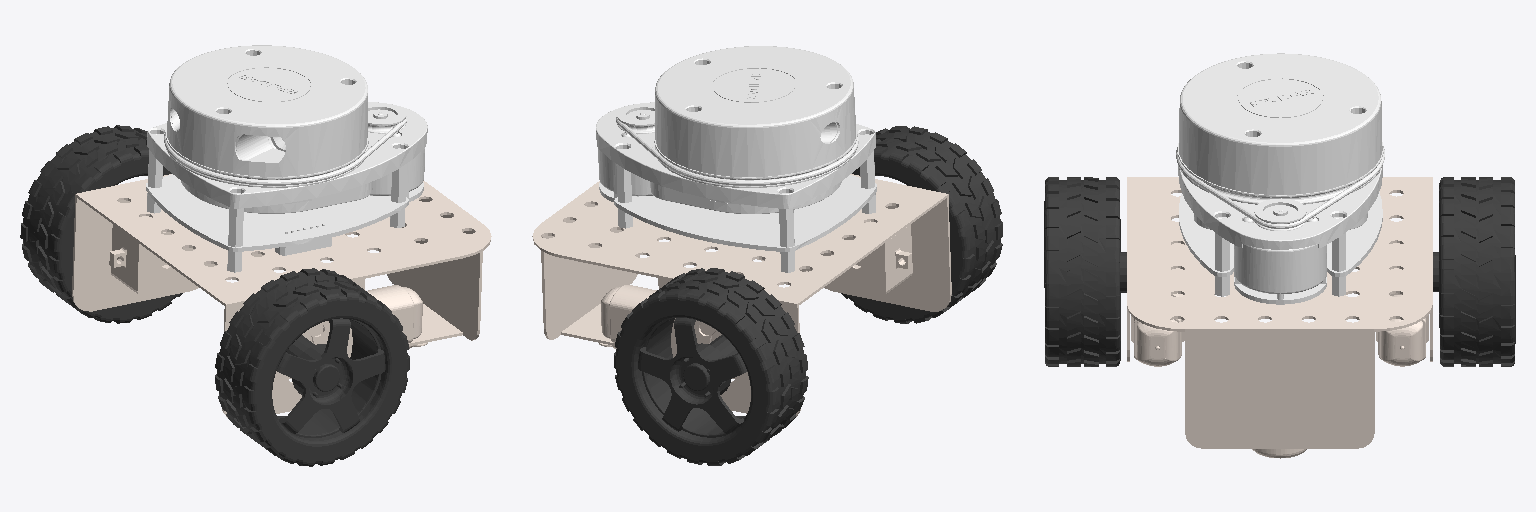
robot.urdf — rover_assembly_description:

<!-- This URDF was automatically created by SolidWorks to URDF Exporter! Originally created by Stephen Brawner (brawner@gmail.com) 
     Commit Version: 1.6.0-4-g7f85cfe  Build Version: 1.6.7995.38578
     For more information, please see http://wiki.ros.org/sw_urdf_exporter -->
<robot
  name="rover_assembly_description">

  <link name="dummy_link" />
  <joint name="dummy_joint" type="fixed">
    <parent link="dummy_link"/>
    <child link="base_link"/>
  </joint>

  <link
    name="base_link">
    <inertial>
      <origin
        xyz="0.0065233 -6.9841E-05 0.0049949"
        rpy="0 0 0" />
      <mass
        value="0.20594" />
      <inertia
        ixx="0.00023282"
        ixy="9.7737E-09"
        ixz="2.4315E-05"
        iyy="0.00027419"
        iyz="-7.3118E-09"
        izz="0.00041916" />
    </inertial>
    <visual>
      <origin
        xyz="0 0 0"
        rpy="0 0 0" />
      <geometry>
        <mesh
          filename="package://rover_assembly_description/meshes/base_link.STL" />
      </geometry>
      <material
        name="">
        <color
          rgba="1 0.94902 0.9098 1" />
      </material>
    </visual>
    <collision>
      <origin
        xyz="0 0 0"
        rpy="0 0 0" />
      <geometry>
        <mesh
          filename="package://rover_assembly_description/meshes/base_link.STL" />
      </geometry>
    </collision>
  </link>
  <link
    name="left_wheel_link">
    <inertial>
      <origin
        xyz="2.7908E-07 -3.2347E-08 -0.12902"
        rpy="0 0 0" />
      <mass
        value="0.029734" />
      <inertia
        ixx="1.2291E-05"
        ixy="6.5019E-11"
        ixz="9.0896E-11"
        iyy="1.2291E-05"
        iyz="-7.735E-12"
        izz="2.0379E-05" />
    </inertial>
    <visual>
      <origin
        xyz="0 0 0"
        rpy="0 0 0" />
      <geometry>
        <mesh
          filename="package://rover_assembly_description/meshes/left_wheel_link.STL" />
      </geometry>
      <material
        name="">
        <color
          rgba="0.29804 0.29804 0.29804 1" />
      </material>
    </visual>
    <collision>
      <origin
        xyz="0 0 0"
        rpy="0 0 0" />
      <geometry>
        <mesh
          filename="package://rover_assembly_description/meshes/left_wheel_link.STL" />
      </geometry>
    </collision>
  </link>
  <joint
    name="left_wheel_joint"
    type="continuous">
    <origin
      xyz="-0.030862 0.060664 0.00024787"
      rpy="1.5698 0 3.1407" />
    <parent
      link="base_link" />
    <child
      link="left_wheel_link" />
    <axis
      xyz="0 0 -1" />
  </joint>
  <link
    name="right_wheel_link">
    <inertial>
      <origin
        xyz="0.00012042 0.000129 -0.12891"
        rpy="0 0 0" />
      <mass
        value="0.029734" />
      <inertia
        ixx="1.2291E-05"
        ixy="-5.2953E-12"
        ixz="-7.6632E-09"
        iyy="1.2291E-05"
        iyz="-8.1079E-09"
        izz="2.0379E-05" />
    </inertial>
    <visual>
      <origin
        xyz="0 0 0"
        rpy="0 0 0" />
      <geometry>
        <mesh
          filename="package://rover_assembly_description/meshes/right_wheel_link.STL" />
      </geometry>
      <material
        name="">
        <color
          rgba="0.29804 0.29804 0.29804 1" />
      </material>
    </visual>
    <collision>
      <origin
        xyz="0 0 0"
        rpy="0 0 0" />
      <geometry>
        <mesh
          filename="package://rover_assembly_description/meshes/right_wheel_link.STL" />
      </geometry>
    </collision>
  </link>
  <joint
    name="right_wheel_joint"
    type="continuous">
    <origin
      xyz="-0.030976 -0.060483 0.00012661"
      rpy="1.5708 0 0" />
    <parent
      link="base_link" />
    <child
      link="right_wheel_link" />
    <axis
      xyz="0.00093633 0.001001 -1" />
  </joint>
  <link
    name="lidar_link">
    <inertial>
      <origin
        xyz="-3.4037E-05 0.011952 0.016735"
        rpy="0 0 0" />
      <mass
        value="0.0782" />
      <inertia
        ixx="2.5804E-05"
        ixy="2.47E-07"
        ixz="2.7479E-09"
        iyy="2.0961E-05"
        iyz="-4.5845E-07"
        izz="4.4317E-05" />
    </inertial>
    <visual>
      <origin
        xyz="0 0 0"
        rpy="0 0 0" />
      <geometry>
        <mesh
          filename="package://rover_assembly_description/meshes/lidar_link.STL" />
      </geometry>
      <material
        name="">
        <color
          rgba="1 1 1 0.35" />
      </material>
    </visual>
    <collision>
      <origin
        xyz="0 0 0"
        rpy="0 0 0" />
      <geometry>
        <mesh
          filename="package://rover_assembly_description/meshes/lidar_link.STL" />
      </geometry>
    </collision>
  </link>
  <joint
    name="lidar_joint"
    type="fixed">
    <origin
      xyz="-0.010767 4.1541E-05 0.03054"
      rpy="-0.035801 0 -1.5997" />
    <parent
      link="base_link" />
    <child
      link="lidar_link" />
    <axis
      xyz="0 0 0" />
  </joint>
  <link
    name="castor_link">
    <inertial>
      <origin
        xyz="0 0 0"
        rpy="0 0 0" />
      <mass
        value="0.2" />
      <inertia
        ixx="1e-5"
        ixy="1e-5"
        ixz="1e-5"
        iyy="0"
        iyz="0"
        izz="0" />
    </inertial>
    <visual>
      <origin
        xyz="0 0 0"
        rpy="0 0 0" />
      <geometry>
        <mesh
          filename="package://rover_assembly_description/meshes/castor_link.STL" />
      </geometry>
      <material
        name="">
        <color
          rgba="1 1 1 1" />
      </material>
    </visual>
    <collision>
      <origin
        xyz="0 0 0"
        rpy="0 0 0" />
      <geometry>
        <mesh
          filename="package://rover_assembly_description/meshes/castor_link.STL" />
      </geometry>
    </collision>
  </link>
  <joint
    name="castor_joint"
    type="fixed">
    <origin
      xyz="0.038053 -0.0069786 -0.028058"
      rpy="-0.0010351 -0.035786 -3.1416" />
    <parent
      link="base_link" />
    <child
      link="castor_link" />
    <axis
      xyz="0.99975 0.02249 0" />
  </joint>
  <gazebo reference="castor_link">
    <mu1>0.0</mu1>
    <mu2>0.0</mu2>
    <kp>1000000.0</kp>
    <kd>100.0</kd>
    <material>Gazebo/Grey</material>
  </gazebo>

  <!-- Paint the Chassis Red -->
  <gazebo reference="base_link">
    <material>Gazebo/Red</material>
  </gazebo>

  <!-- Friction for Left Wheel -->
  <gazebo reference="left_wheel_link">
    <mu1>200.0</mu1>
    <mu2>200.0</mu2>
    <kp>1000000.0</kp>
    <kd>100.0</kd>
    <material>Gazebo/Black</material>
  </gazebo>

  <!-- Friction for Right Wheel -->
  <gazebo reference="right_wheel_link">
    <mu1>200.0</mu1>
    <mu2>200.0</mu2>
    <kp>1000000.0</kp>
    <kd>100.0</kd>
    <material>Gazebo/Black</material>
  </gazebo>

  <!-- Paint the LiDAR Dark Grey -->
  <gazebo reference="lidar_link">
    <material>Gazebo/DarkGrey</material>
  </gazebo>

  <!-- Gazebo Differential Drive Plugin -->
  <gazebo>
    <plugin name="diff_drive" filename="libgazebo_ros_diff_drive.so">
      
      <!-- Wheel Joints -->
      <left_joint>left_wheel_joint</left_joint>
      <right_joint>right_wheel_joint</right_joint>

      <!-- Kinematics (You can tweak these numbers later) -->
      <wheel_separation>0.20</wheel_separation> 
      <wheel_diameter>0.10</wheel_diameter>

      <!-- Limits -->
      <max_wheel_torque>20.0</max_wheel_torque>
      <max_wheel_acceleration>2.0</max_wheel_acceleration>

      <!-- Output Configuration -->
      <odometry_frame>odom</odometry_frame>
      <robot_base_frame>dummy_link</robot_base_frame>
      <publish_odom>true</publish_odom>
      <publish_odom_tf>true</publish_odom_tf>
      <publish_wheel_tf>true</publish_wheel_tf>

    </plugin>
  </gazebo>
  <gazebo reference="lidar_link">
  <sensor type="ray" name="lidar_sensor">
    <pose>0 0 0 0 0 0</pose>
    <visualize>false</visualize> <!-- Keep true so you can see the blue laser rays in Gazebo -->
    <update_rate>10.0</update_rate> <!-- Scans per second (Hz) -->
    <ray>
      <scan>
        <horizontal>
          <samples>360</samples>
          <!-- Resolution of 1 means 1 ray per sample. 360 samples = 1 ray per degree -->
          <resolution>1.0</resolution> 
          <min_angle>-3.14159</min_angle> <!-- -180 degrees in radians -->
          <max_angle>3.14159</max_angle>  <!-- +180 degrees in radians -->
        </horizontal>
      </scan>
      <range>
        <!-- The min range MUST be larger than the radius of your rover's physical footprint -->
        <!-- Otherwise, the LiDAR will detect your own chassis as an obstacle -->
        <min>0.25</min> 
        <max>12.0</max> <!-- 12 meters is standard for indoor 2D SLAM -->
        <resolution>0.015</resolution>
      </range>
      <noise>
        <type>gaussian</type>
        <mean>0.0</mean>
        <stddev>0.01</stddev> <!-- Adds 1cm of noise for simulation realism -->
      </noise>
    </ray>
    <plugin name="gazebo_ros_ray_sensor" filename="libgazebo_ros_ray_sensor.so">
      <ros>
        <remapping>~/out:=scan</remapping> <!-- Forces data onto the standard /scan topic -->
      </ros>
      <output_type>sensor_msgs/LaserScan</output_type>
      <frame_name>lidar_link</frame_name> <!-- Critical for the tf tree -->
    </plugin>
  </sensor>
</gazebo>
</robot>

--- Facts derived from the render (not from the file) ---
The picture shows the robot from 3 angles, left to right: view 1: azimuth 30°, elevation 25°; view 2: azimuth 150°, elevation 25°; view 3: azimuth 270°, elevation 25°; orthographic projection.
Robot: rover_assembly_description — 6 links, 5 joints (2 continuous, 3 fixed); root link dummy_link; default pose: every joint at zero.
Links seen in each view (by area): view 1: lidar_link, base_link, left_wheel_link, right_wheel_link; view 2: lidar_link, base_link, right_wheel_link, left_wheel_link; view 3: base_link, lidar_link, right_wheel_link, left_wheel_link.
Boxes of the visible links, x1,y1,x2,y2 form: lidar_link: [146, 45, 427, 272]; base_link: [72, 174, 491, 417]; left_wheel_link: [215, 268, 409, 466]; right_wheel_link: [20, 125, 182, 323]; lidar_link: [596, 46, 876, 272]; base_link: [532, 174, 951, 416]; right_wheel_link: [614, 268, 808, 465]; left_wheel_link: [841, 126, 1002, 323]; base_link: [1127, 177, 1432, 458]; lidar_link: [1176, 53, 1384, 304]; right_wheel_link: [1433, 177, 1515, 366]; left_wheel_link: [1044, 177, 1126, 366].
Bounding box of the posed robot: 0.1216 × 0.1615 × 0.1131 m (x, y, z).
Meshes: 5 distinct files referenced, 5 mesh visuals loaded (5 binary STL).
